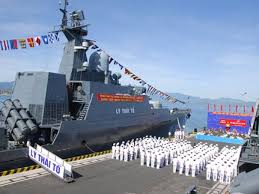tau_muctieu: (16, 29, 193, 146)
